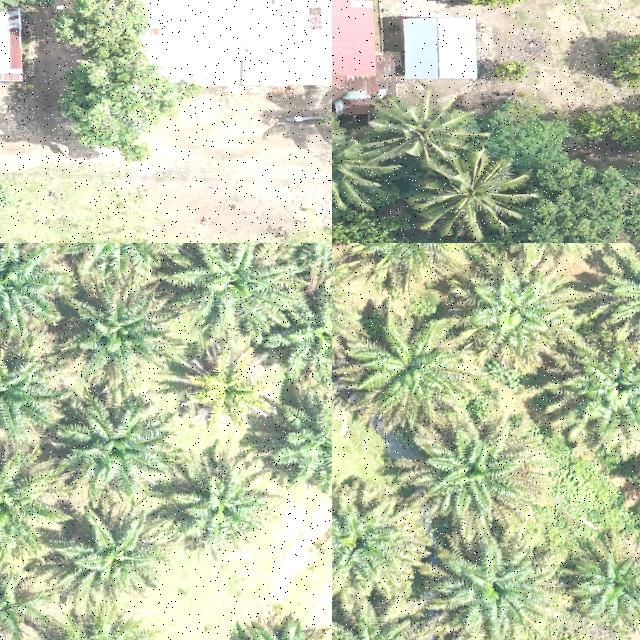Ganoderma: (187, 356, 262, 420)
